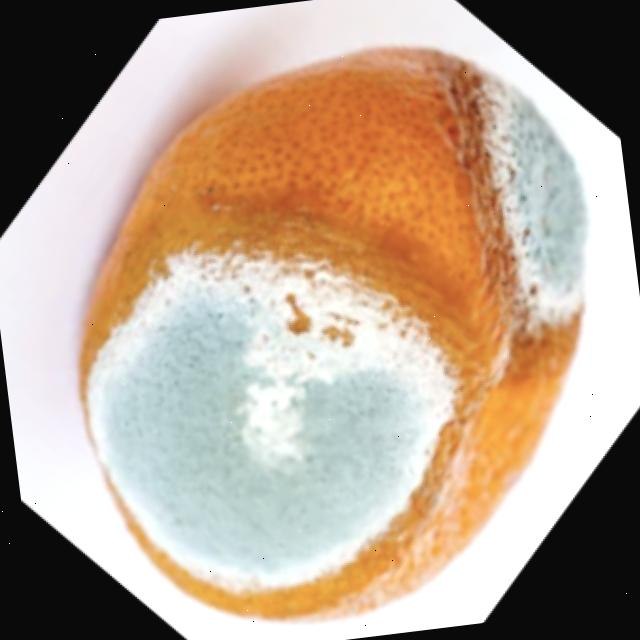Rotten: (39, 22, 636, 640)
